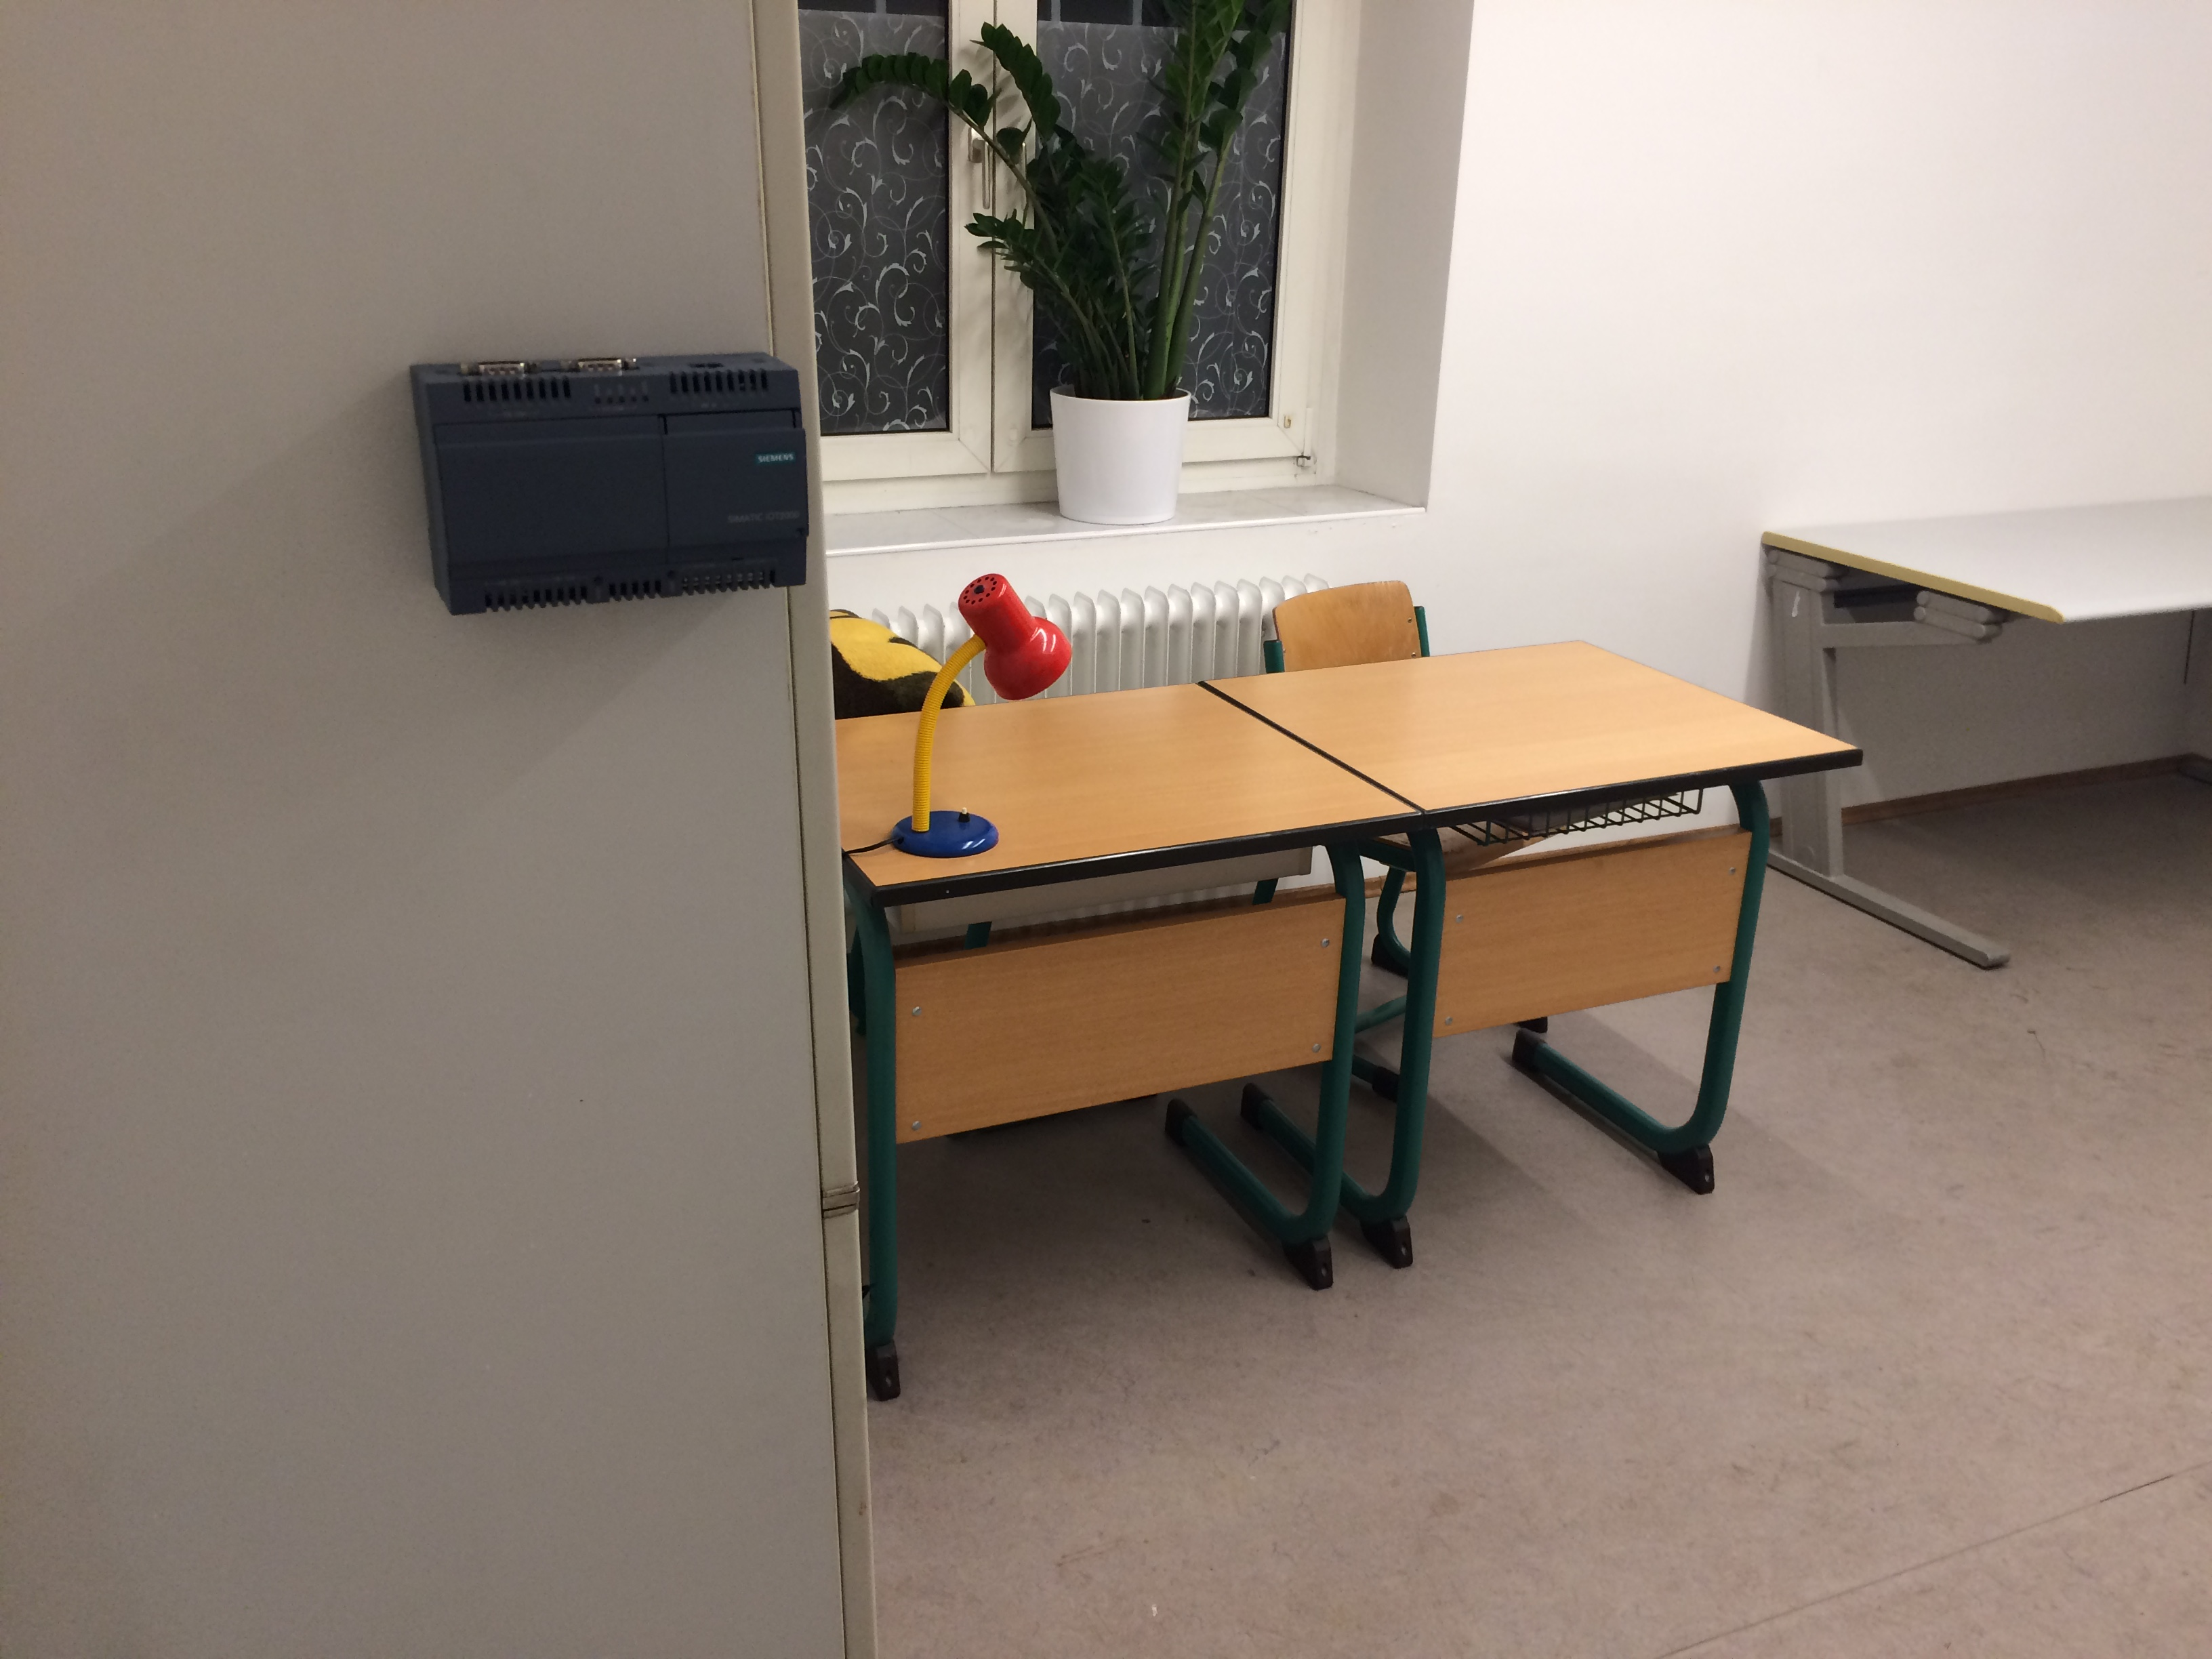iot2000: (408, 350, 813, 619)
